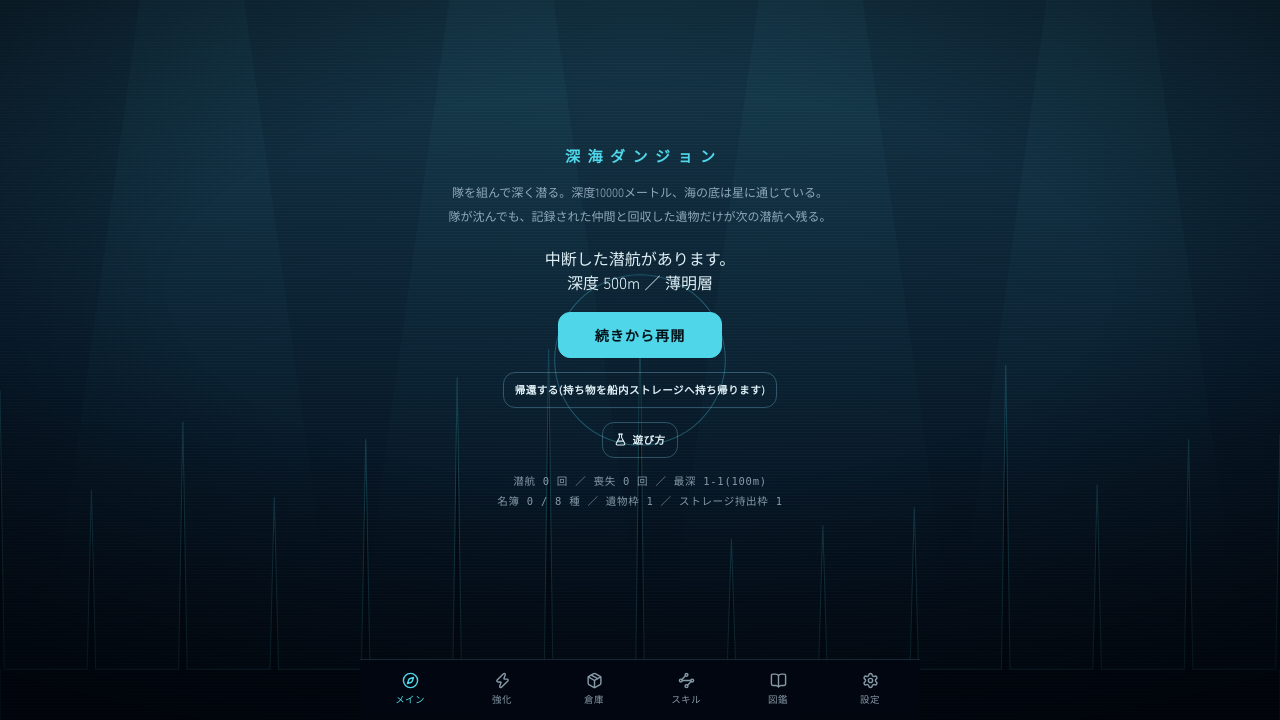
Test: 復活オファーの1ラン1回制限 › この潜航でまだ復活を使っていなければ、全滅時に復活オファーが出る
Click the button "続きから再開".
click(640, 335)  # box [558,312,722,358]
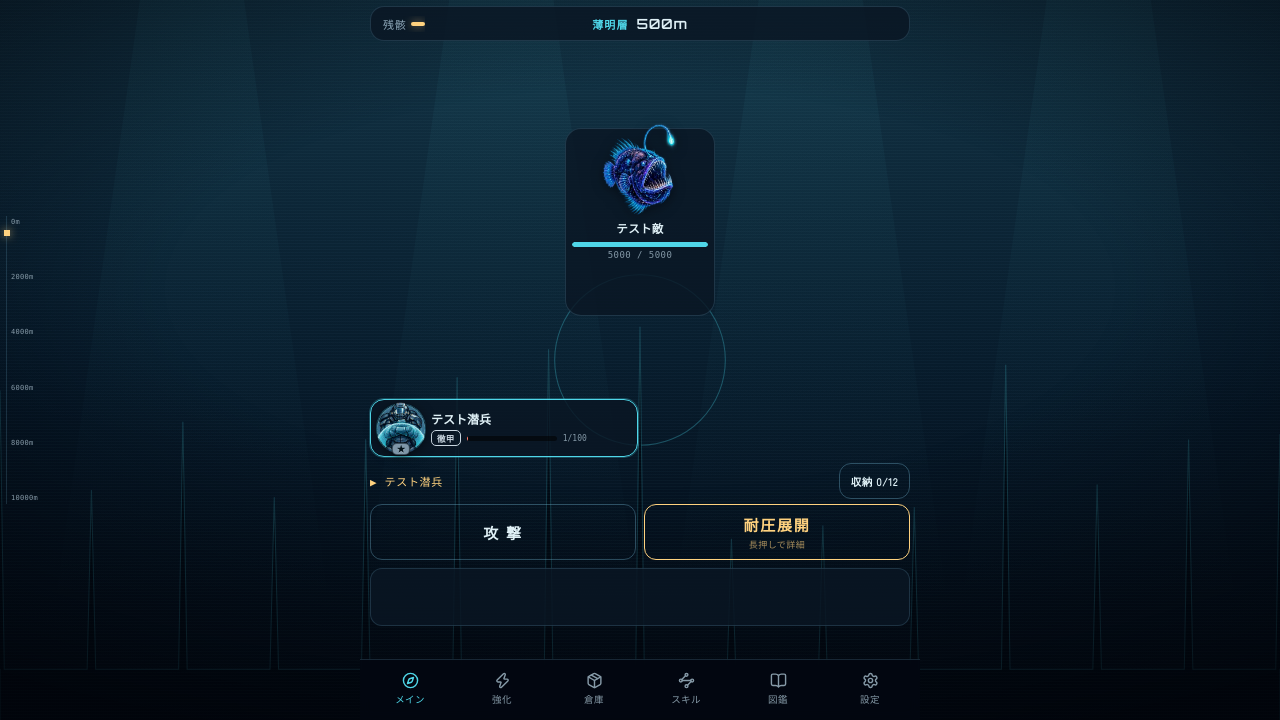
Click the button "攻 撃".
click(503, 532)  # box [370,504,636,560]
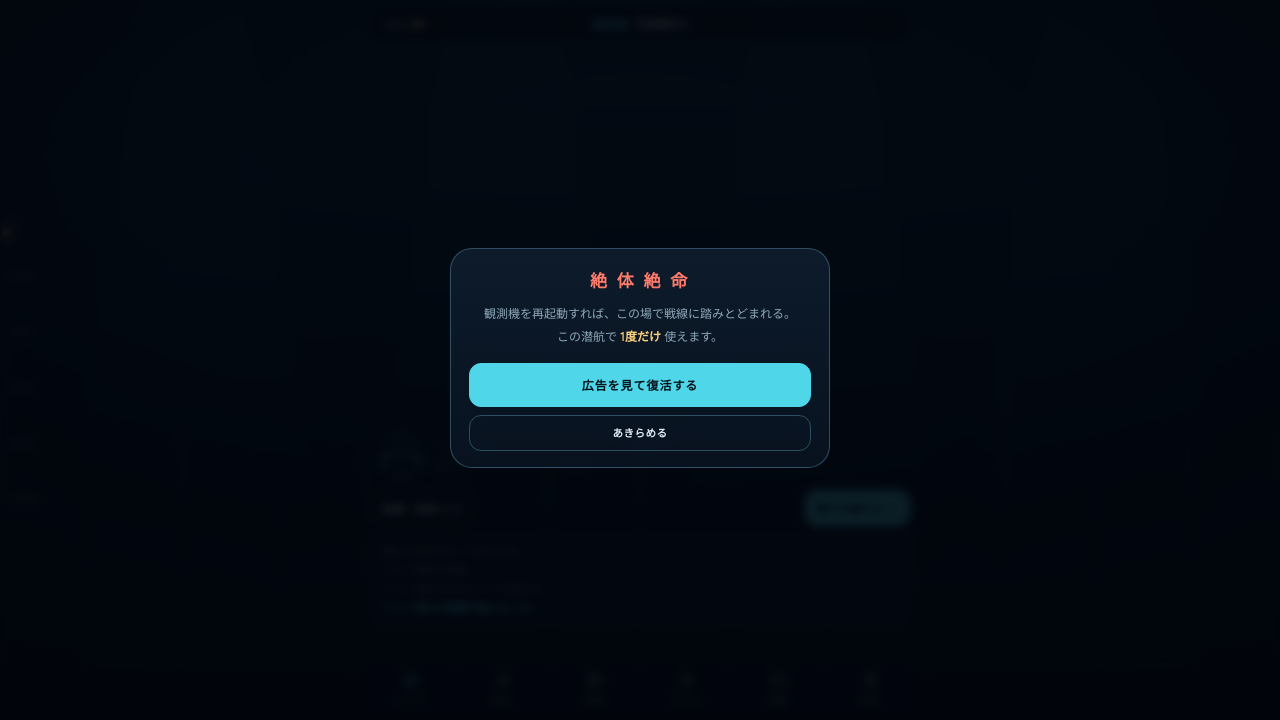
Now the text "絶 体 絶 命" is shown, box [590,267,690,292]
